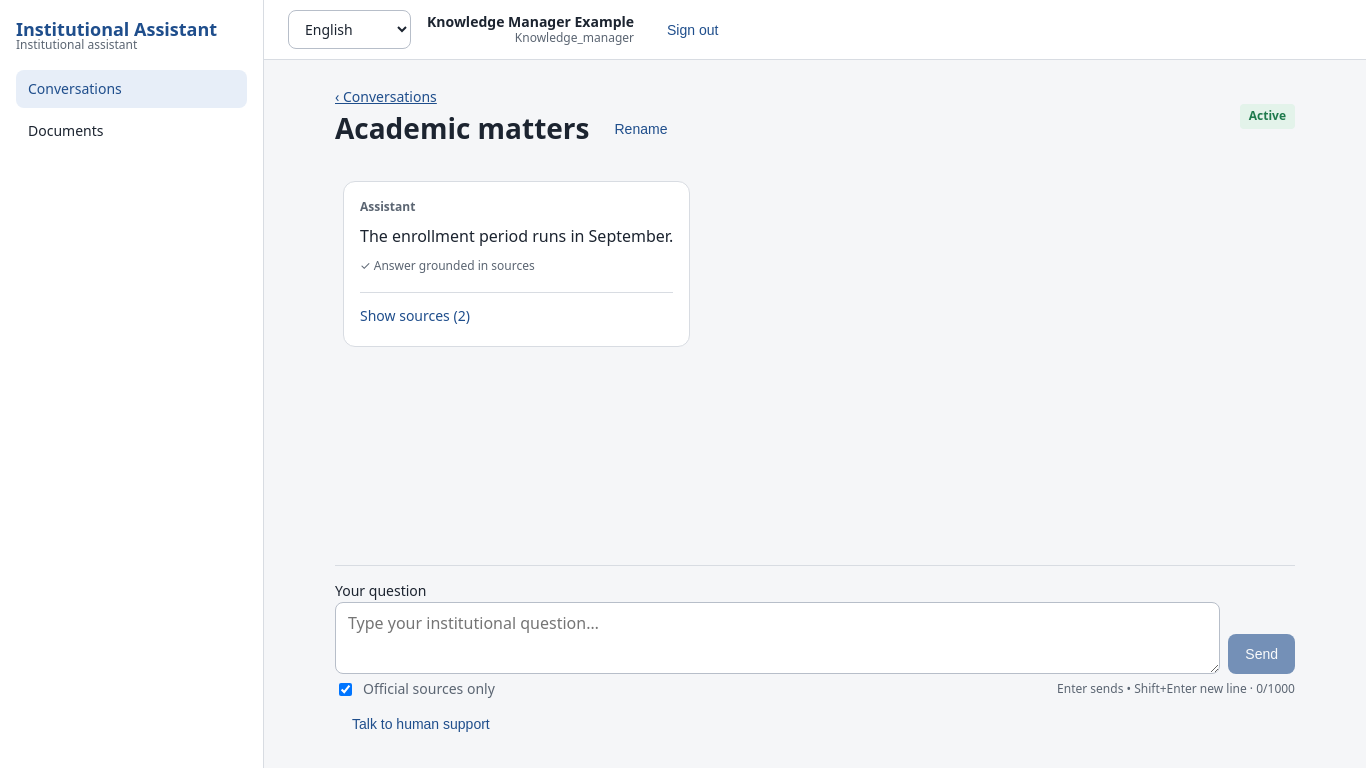
answer sources › lists sources ordered by citation index
Click the button "Show sources (2)". click: {"x": 415, "y": 316}
box: left=360, top=301, right=470, bottom=330
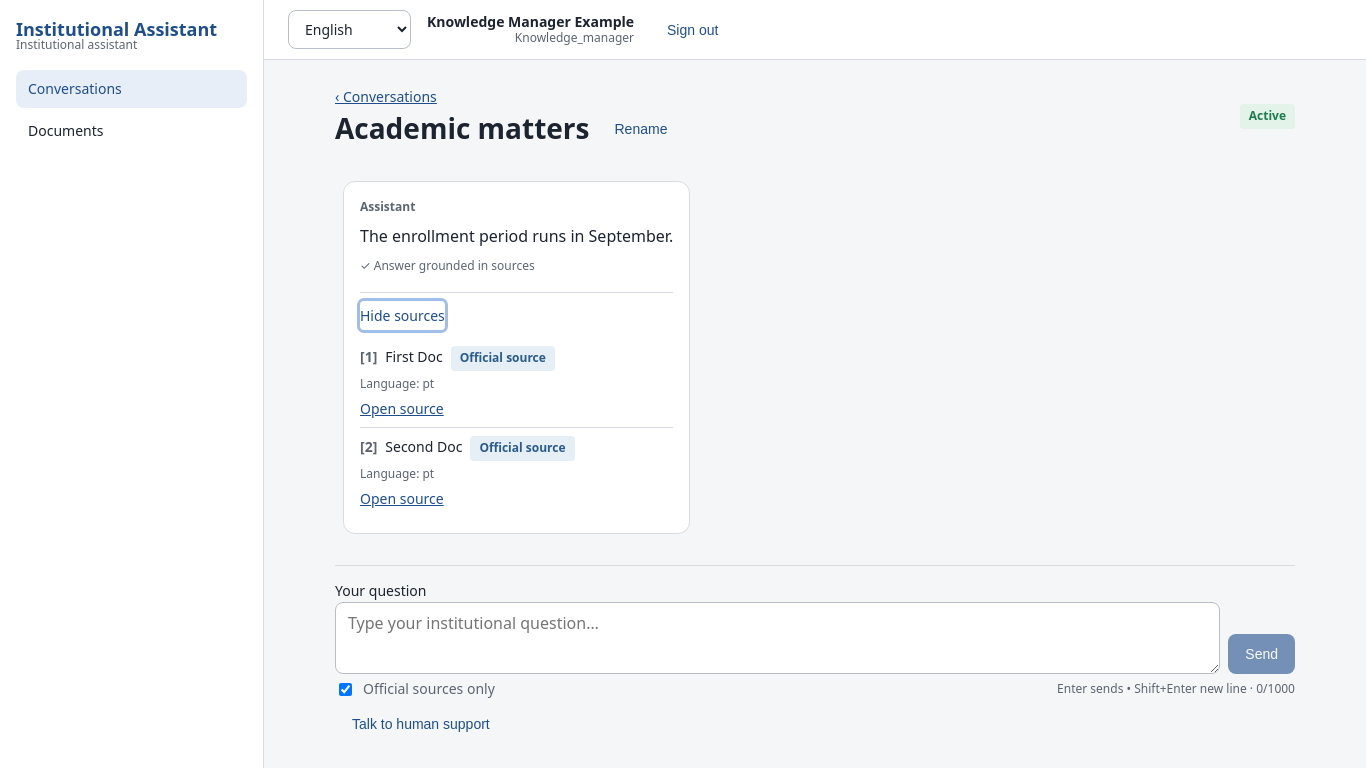
expect the list item "[1] First Doc Official source Language: pt Open source" is shown: met, box left=360, top=338, right=673, bottom=428
expect the list item "[2] Second Doc Official source Language: pt Open source" is shown: met, box left=360, top=436, right=574, bottom=508
